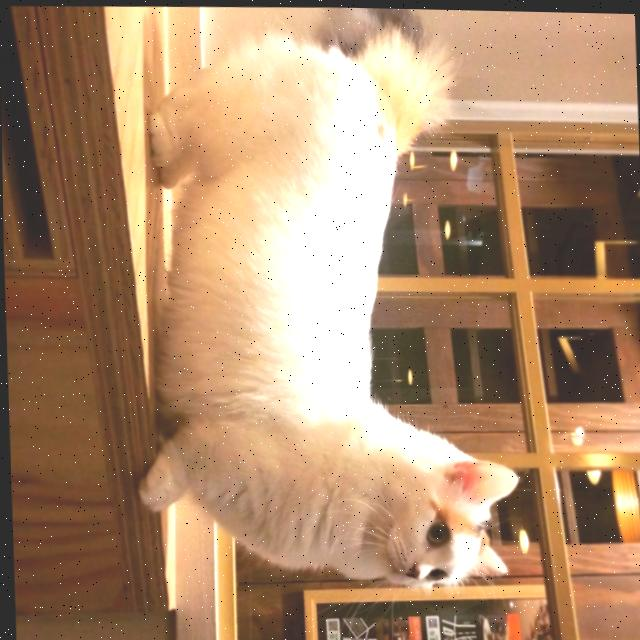Munchkin: (119, 2, 524, 594)
